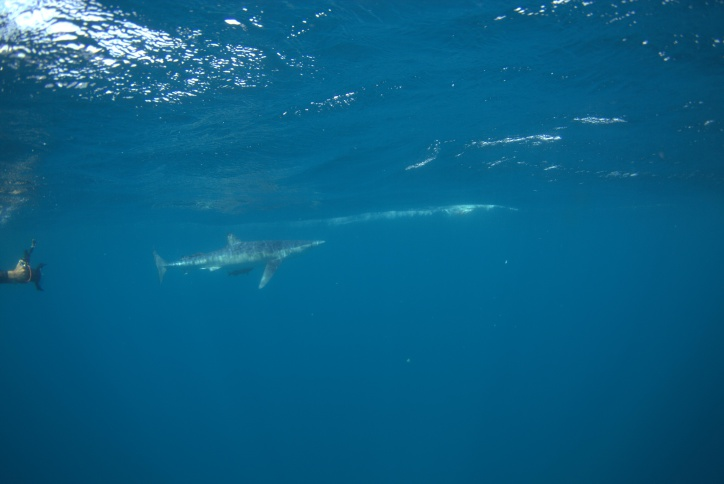Azul: (126, 210, 343, 309)
